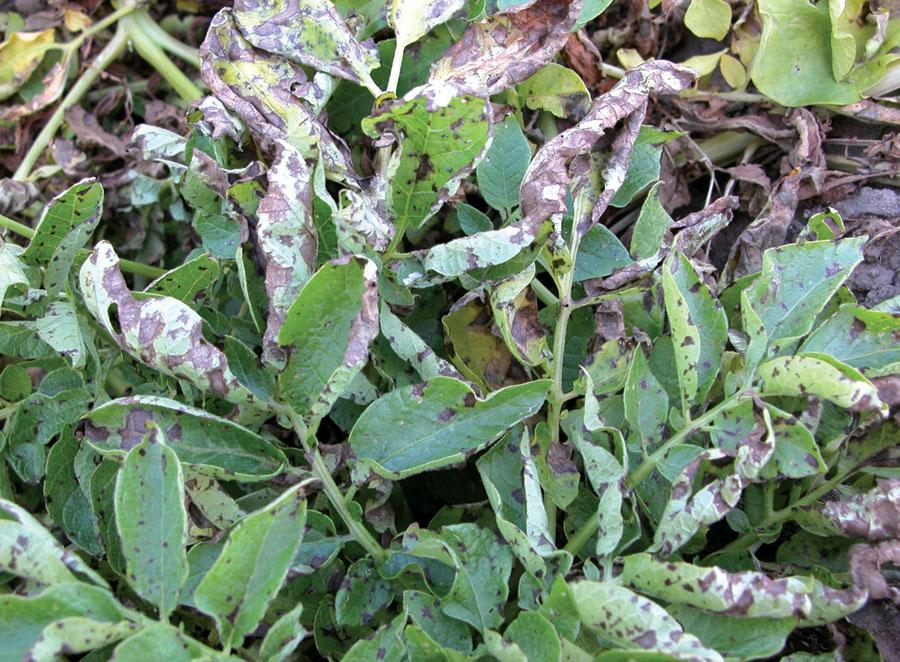Potato leaf late blight: (72, 238, 278, 416), (514, 50, 701, 239), (198, 475, 328, 659), (268, 252, 380, 440), (612, 548, 871, 629), (407, 1, 592, 112), (652, 396, 780, 555), (234, 1, 388, 103), (590, 193, 745, 292), (730, 106, 824, 268), (114, 422, 192, 612), (564, 575, 714, 662), (787, 486, 900, 543)
